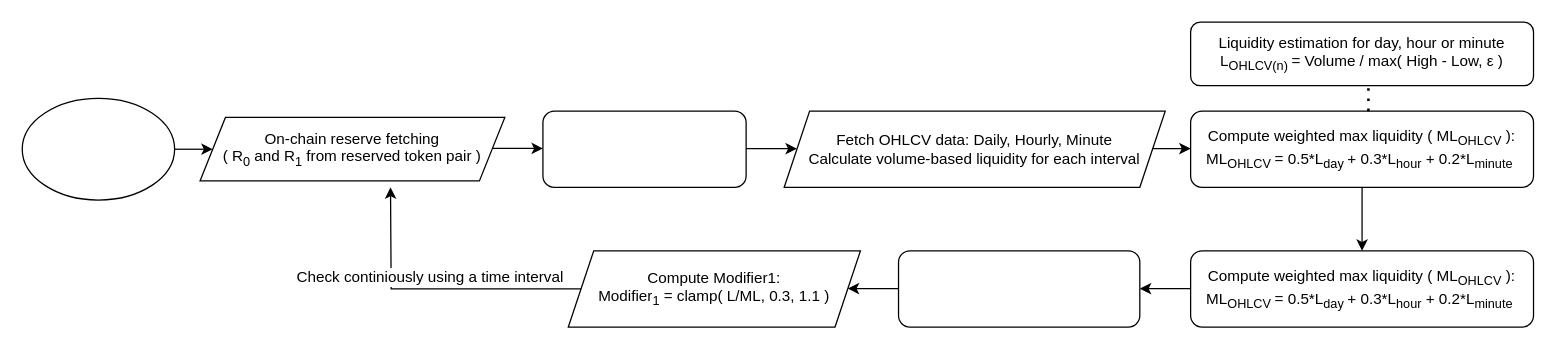
The diagram is 1556 pixels wide and 349 high, and some of its shapes have lost their labels. The shapes that lost their labels are listed below. From the top down, each one's centre as x and y in pixels, then its label:
At point (98, 148): "Start".
At point (644, 148): "Compute Liquidity: L onchain = sqrt( R 0 * R 1 )".
At point (1018, 288): "Compute final max liquidity ML: ML= max( ML OHLCV , L onchain )".
